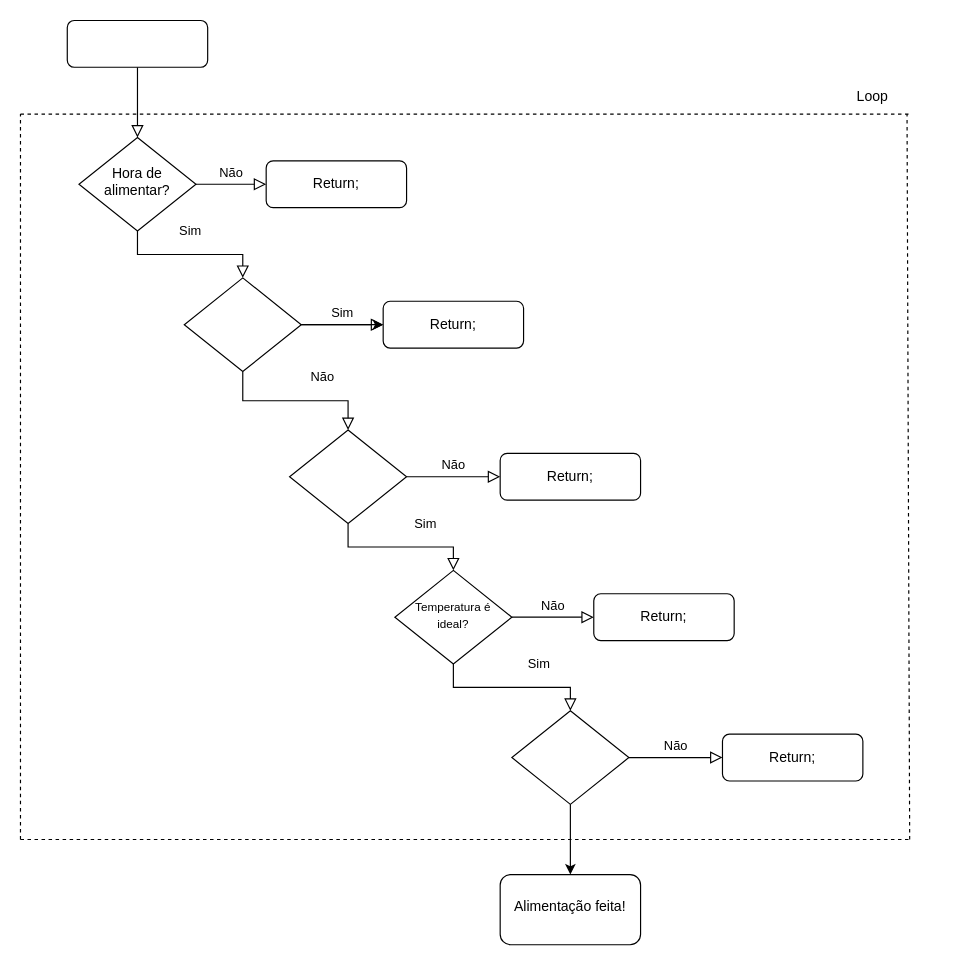
Image size: 962x965. Some labels were removed from this diagram. Each missing label, with the centre of its shape:
Já foram alimentados?: (x=242, y=324)
pH é ideal?: (x=347, y=476)
Sistema inciado: (x=137, y=43)
Tem ração suficiente no container?: (x=570, y=757)
